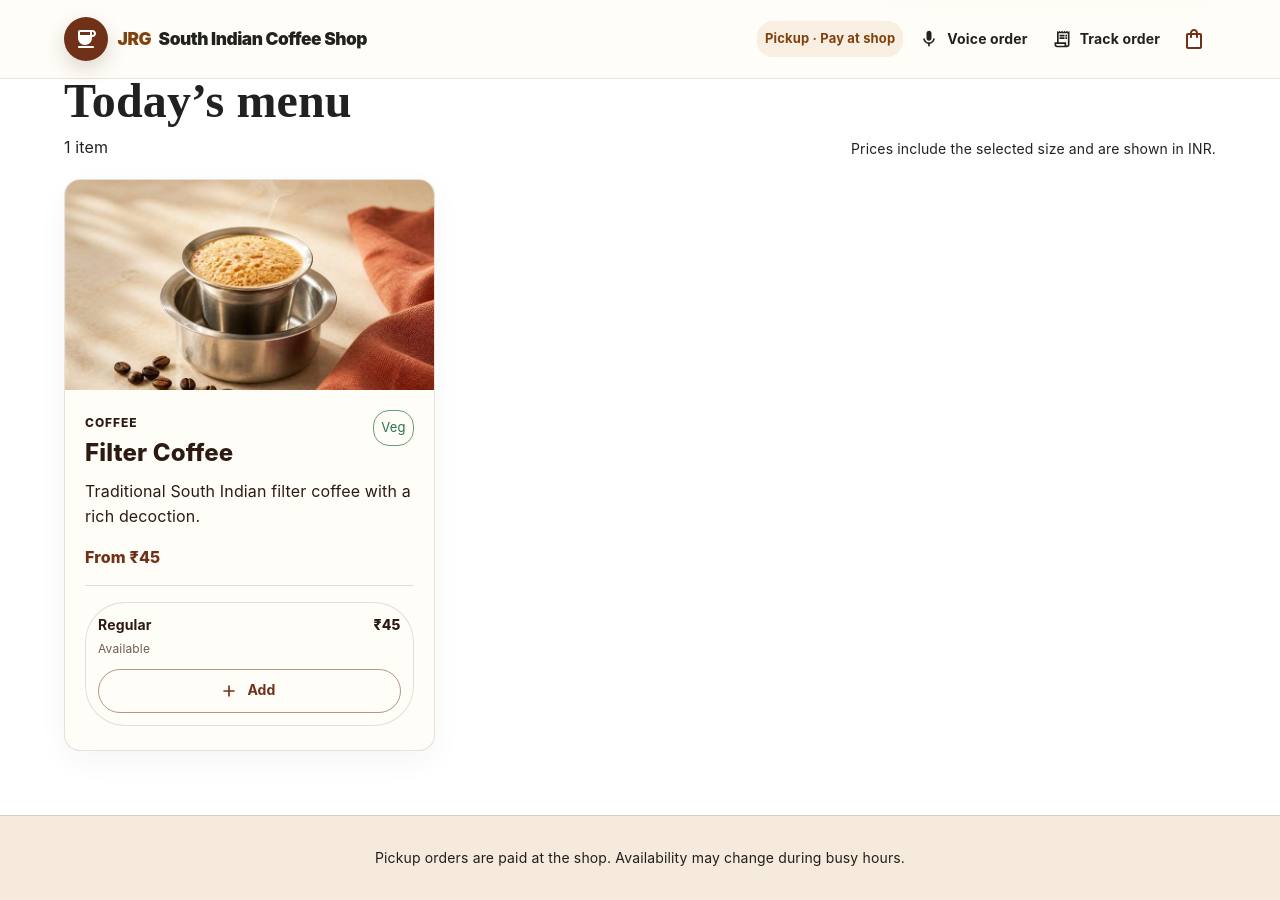
Test: customer menu › keeps menu and checkout quantities in sync in both directions
(page scrolled)
What coordinates should you click on to do the following:
click the button with aria-label "Add Filter Coffee Regular to cart"
I would click on:
 (249, 691)
Its box is [98,669,401,713].
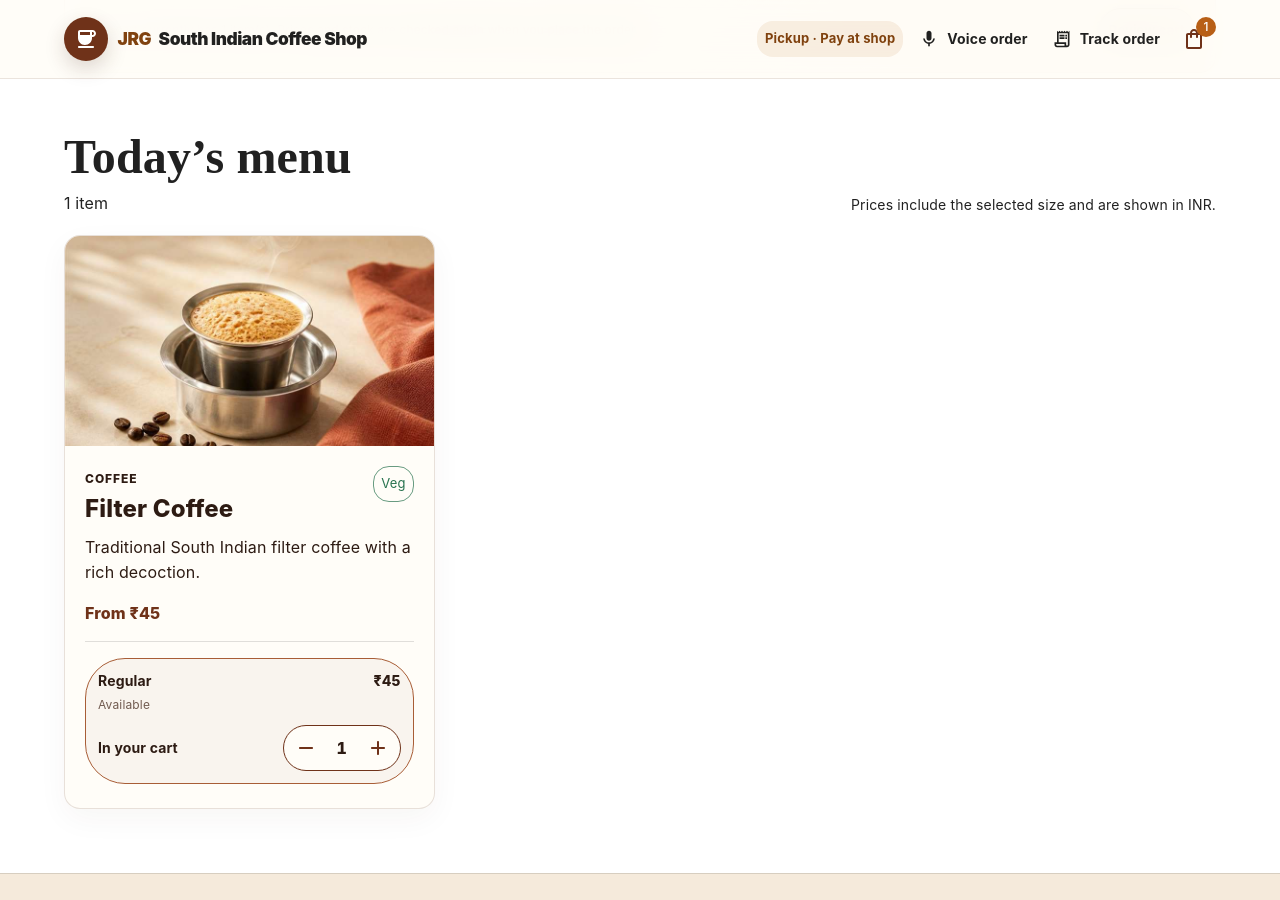
What coordinates should you click on to do the following:
click the button named "Increase Filter Coffee Regular quantity"
I would click on:
 (378, 748)
Its box is [356,726,400,770].
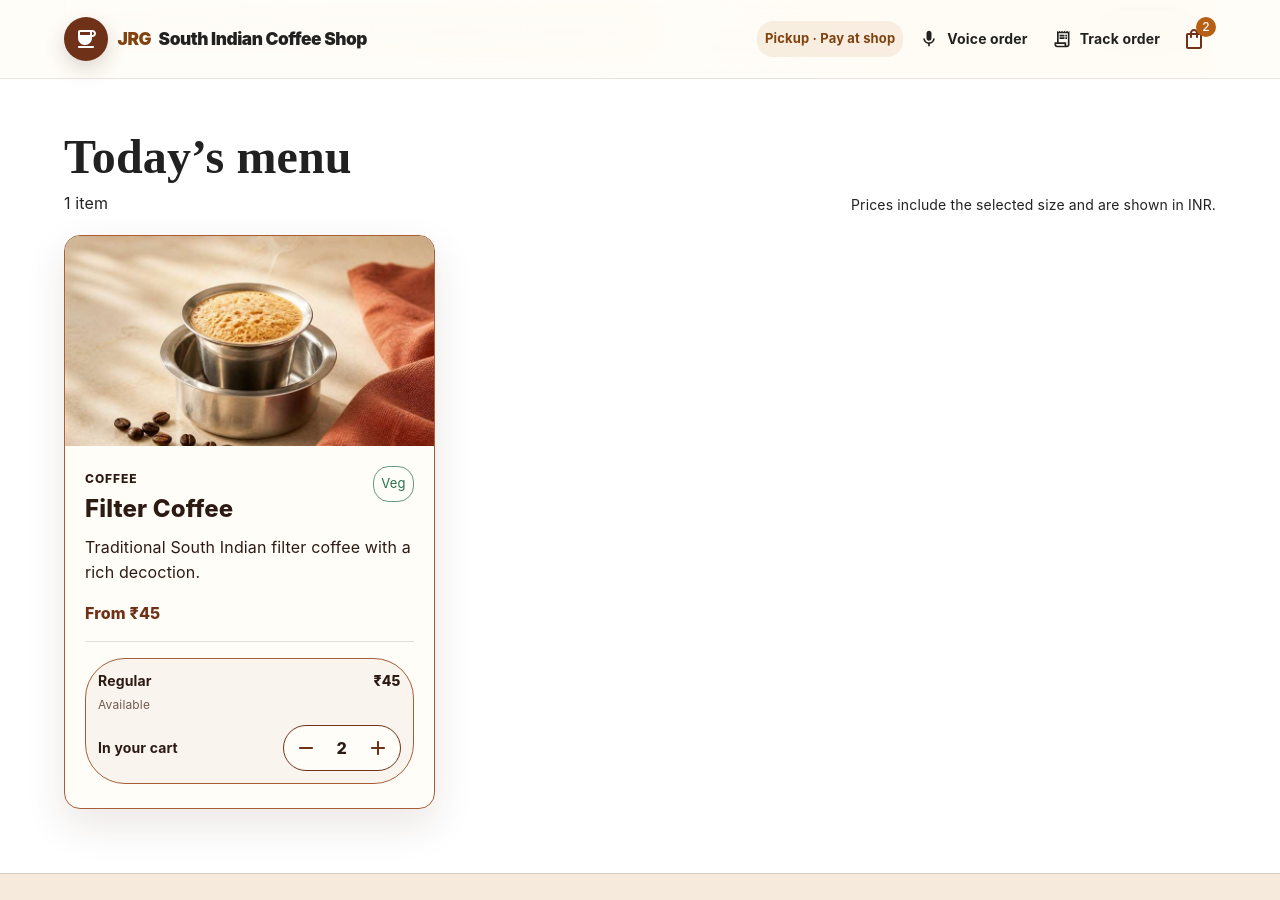
What coordinates should you click on to do the following:
click the link named "Cart with 2 items"
I would click on:
 (1199, 34)
Its box is [1182,17,1216,51].
(page scrolled)
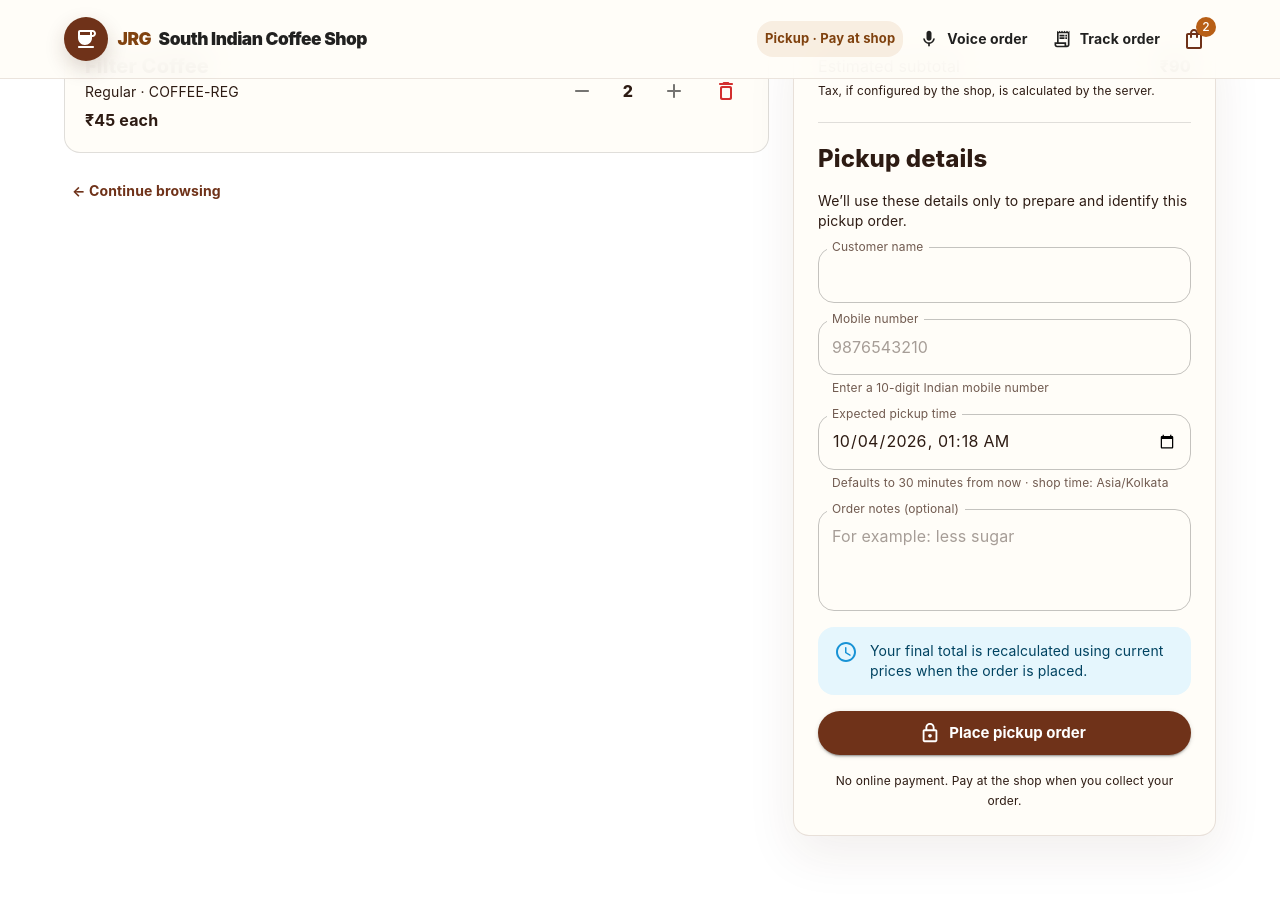
What coordinates should you click on to do the following:
click the button named "Decrease Filter Coffee Regular quantity"
I would click on:
 (582, 91)
Its box is [560,69,604,113].
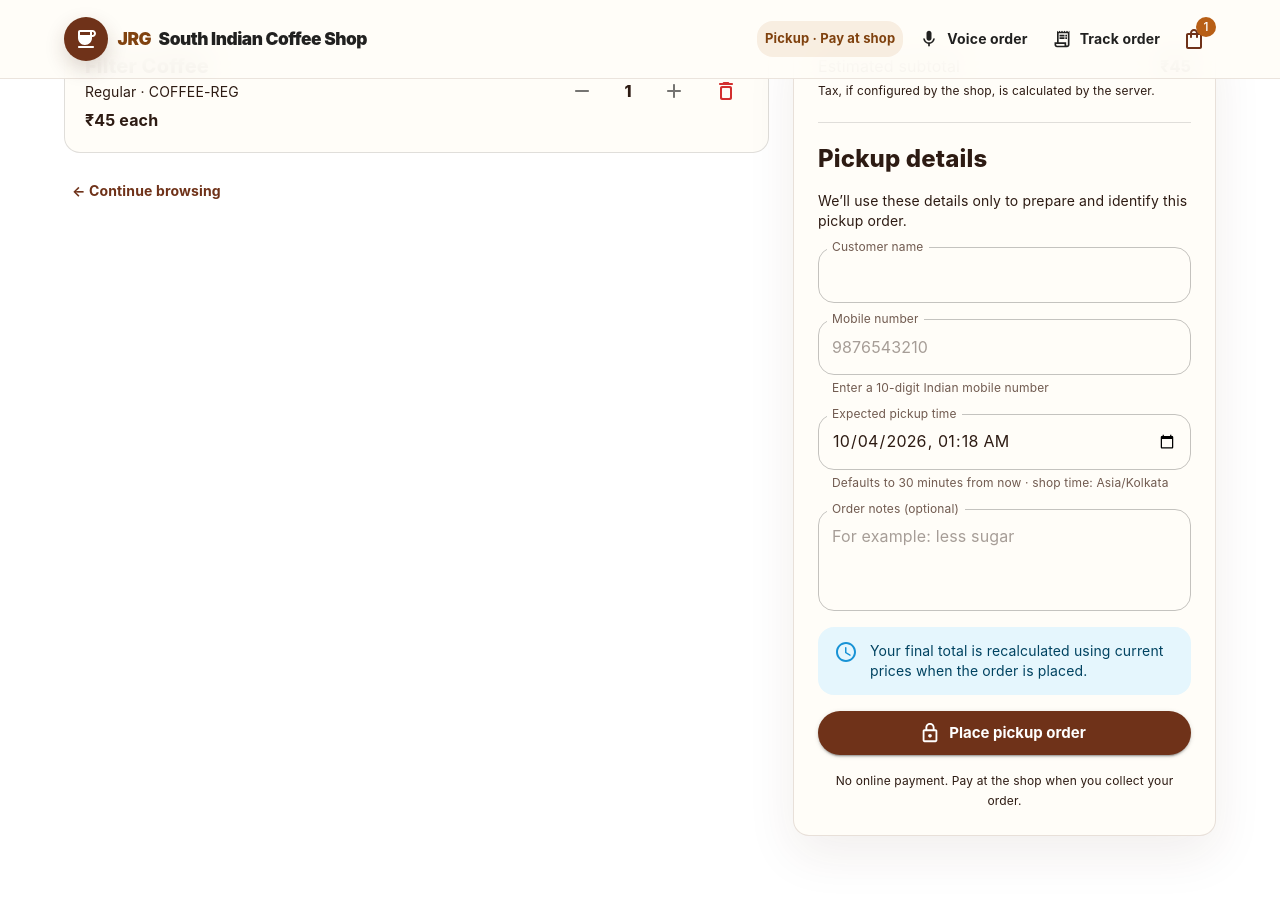
What coordinates should you click on to do the following:
click the link "← Continue browsing"
I would click on:
 (146, 190)
Its box is [72,182,221,199].
(page scrolled)
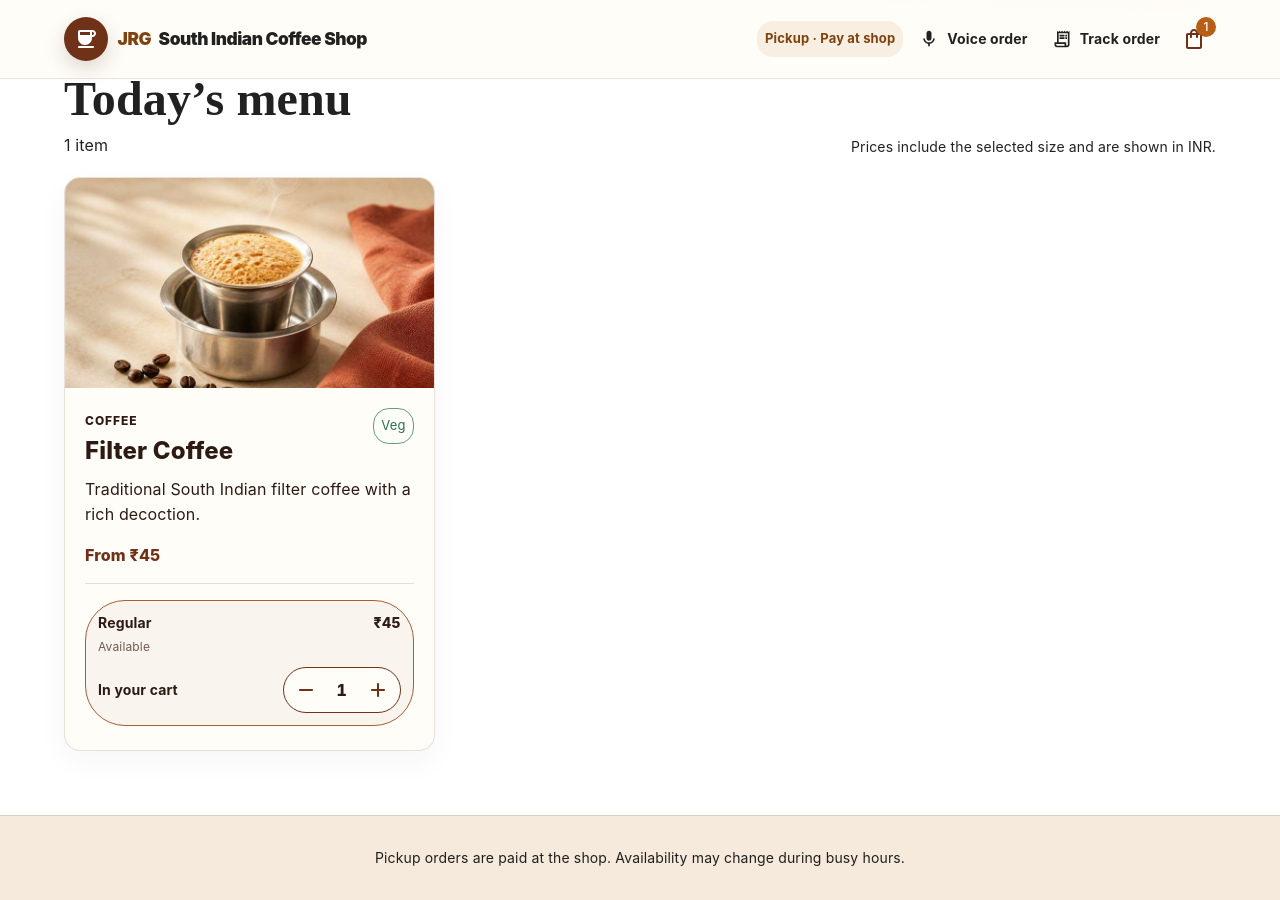
Now the text named "Filter Coffee Regular quantity in cart" reads "1", box [336,680,347,700]
